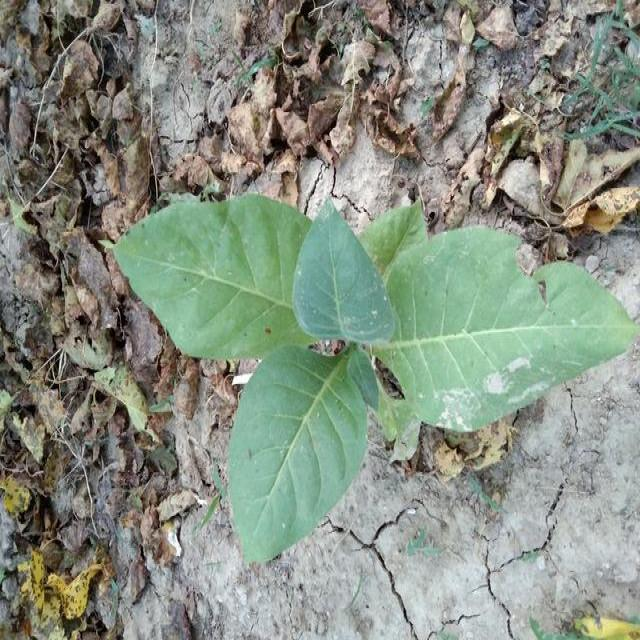crop: (122, 186, 640, 557)
